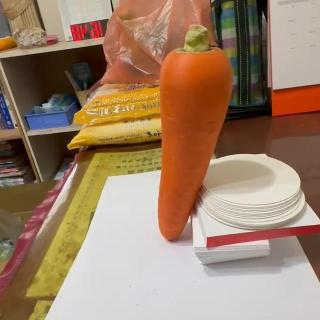carrot: (156, 23, 232, 241)
